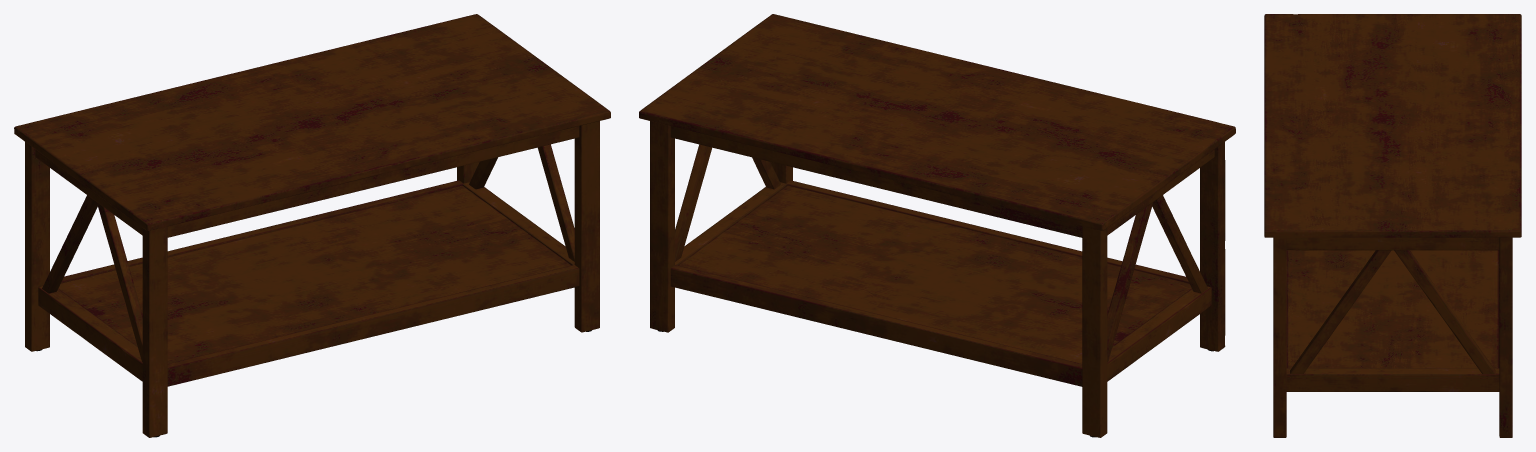
Rendered from THPS2723.obj.
3 views of the same model, side by side, from view 1: azimuth 30°, elevation 25°; view 2: azimuth 150°, elevation 25°; view 3: azimuth 270°, elevation 25° (orthographic). The views are drawn at different scales.
Parts seen in each view (by area): view 1: not_clear_obj_0_v6; view 2: not_clear_obj_0_v6; view 3: not_clear_obj_0_v6.
Boxes of the visible parts, x1,y1,x2,y2 form: not_clear_obj_0_v6: [14, 14, 610, 437]; not_clear_obj_0_v6: [639, 14, 1235, 437]; not_clear_obj_0_v6: [1264, 14, 1521, 437].
Size of what is drawn, in the model's own units: 112 by 50.78 by 55.88.
